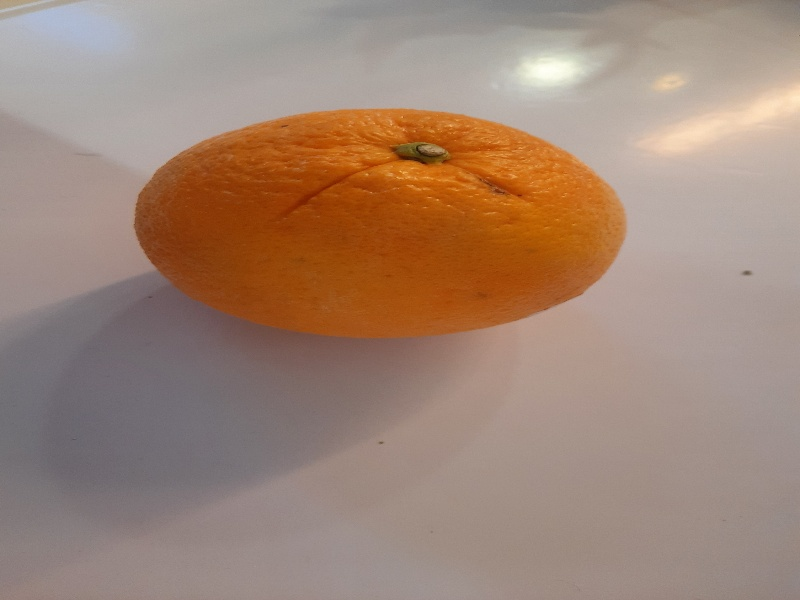fruit: (132, 91, 635, 363)
